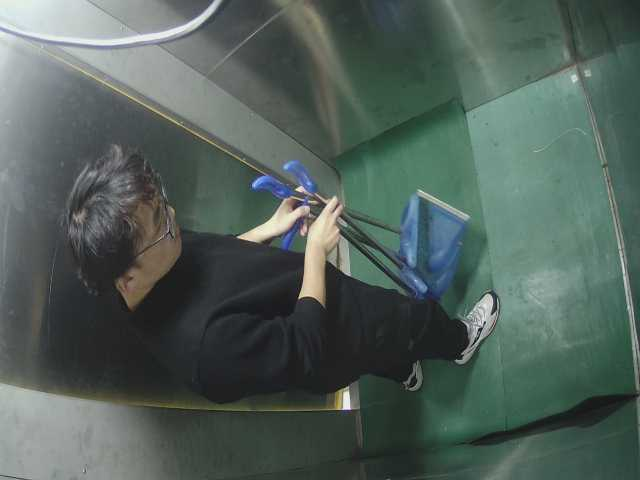broom: (259, 136, 473, 298)
person: (54, 141, 504, 413)
